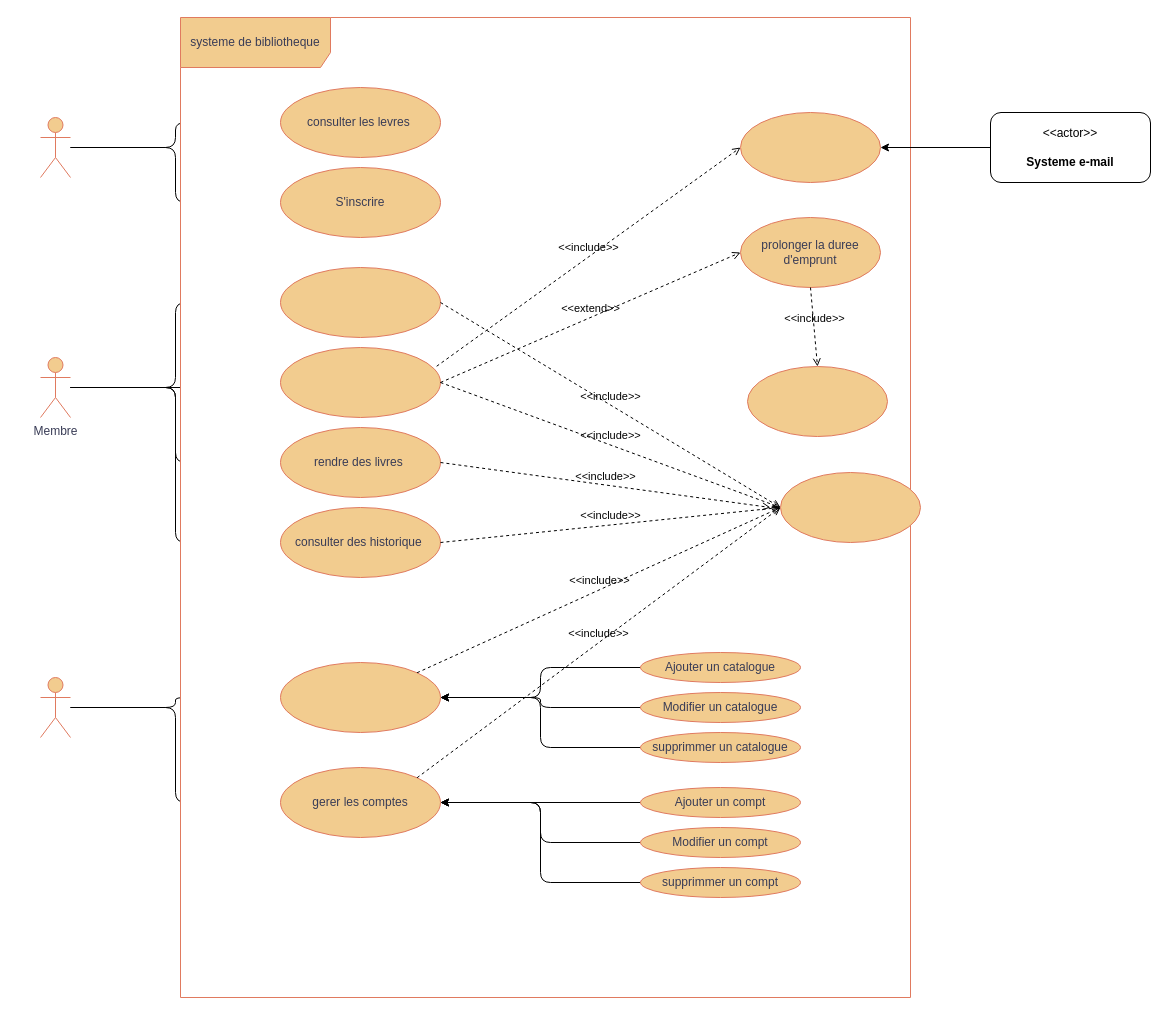
Some shapes in this 1168 by 1015 pixel diagram are drawn without their labels. Each missing label, with the centre of its shape:
"Administrateur" belongs at (x=55, y=707).
"emprunter des livres" belongs at (x=360, y=382).
"gerer la catalogue" belongs at (x=360, y=697).
"notification par e-mail est envoye" belongs at (x=810, y=147).
"rechercher des livres" belongs at (x=360, y=302).
"S'Authentifier" belongs at (x=850, y=507).
"verifier le livre n'est pas reserve" belongs at (x=817, y=401).
"Visiteur" belongs at (x=55, y=147).
